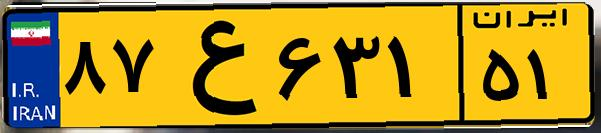1: (385, 28, 445, 110), (525, 38, 570, 115)
3: (330, 28, 385, 110)
5: (475, 38, 525, 113)
6: (270, 28, 330, 110)
7: (110, 28, 158, 98)
8: (57, 26, 110, 100)
ع: (158, 12, 270, 120)
